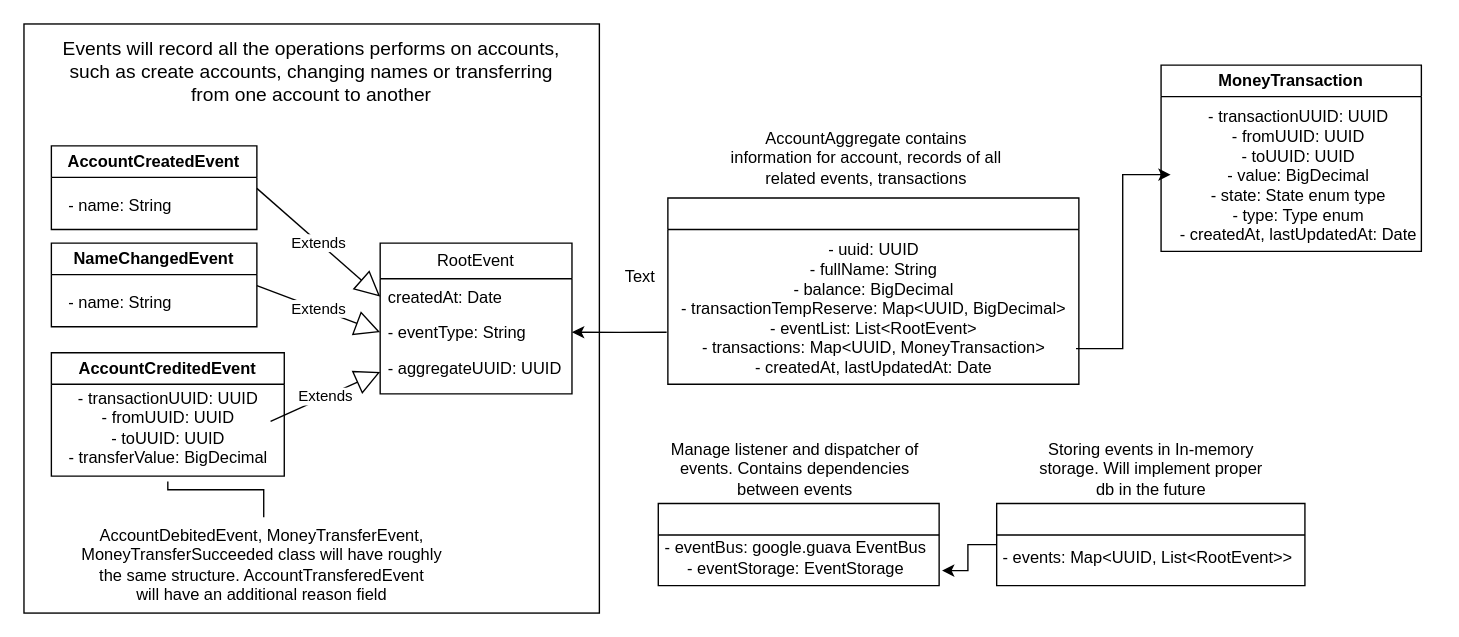
This 1459x637 diagram has some shape labels left out. The shapes that lost their labels are listed below. From the top down, each one's box as (x1, y1, x2, y2) in pixels, then its label:
(667, 197, 1079, 384): AccountAggregate
(657, 502, 939, 586): EventManager
(995, 502, 1305, 586): EventStorage
